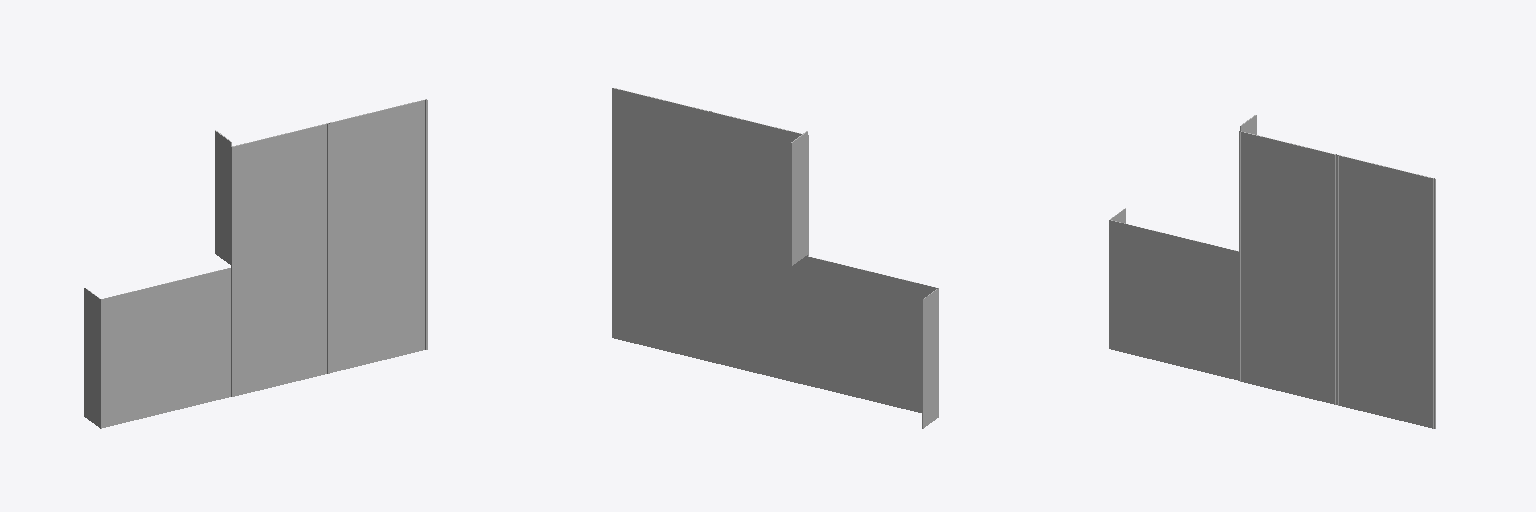
The model's file is Registerverkleidung.obj.
3 renders of one model, left to right at view 1: azimuth 30°, elevation 25°; view 2: azimuth 150°, elevation 25°; view 3: azimuth 330°, elevation 25°, orthographic.
Parts seen in each view (by area): view 1: Mesh12 Component_1972 G_7_V3_Registerverkleidungen_dwg1 Model, Mesh4 Component_1948 G_7_V3_Registerverkleidungen_dwg1 Model, Mesh21 Component_2002 G_7_V3_Registerverkleidungen_dwg1 Model, Mesh19 Component_2001 G_7_V3_Registerverkleidungen_dwg1 Model, Mesh17 Component_2000 G_7_V3_Registerverkleidungen_dwg1 Model, Mesh6 Component_1949 G_7_V3_Registerverkleidungen_dwg1 Model, Mesh14 Component_1973 G_7_V3_Registerverkleidungen_dwg1 Model; view 2: Mesh4 Component_1948 G_7_V3_Registerverkleidungen_dwg1 Model, Mesh12 Component_1972 G_7_V3_Registerverkleidungen_dwg1 Model, Mesh21 Component_2002 G_7_V3_Registerverkleidungen_dwg1 Model, Mesh19 Component_2001 G_7_V3_Registerverkleidungen_dwg1 Model, Mesh17 Component_2000 G_7_V3_Registerverkleidungen_dwg1 Model; view 3: Mesh4 Component_1948 G_7_V3_Registerverkleidungen_dwg1 Model, Mesh12 Component_1972 G_7_V3_Registerverkleidungen_dwg1 Model, Mesh21 Component_2002 G_7_V3_Registerverkleidungen_dwg1 Model, Mesh6 Component_1949 G_7_V3_Registerverkleidungen_dwg1 Model.
Part boxes in pixels (bbox=[...]): Mesh12 Component_1972 G_7_V3_Registerverkleidungen_dwg1 Model: bbox=[232, 123, 327, 396]; Mesh4 Component_1948 G_7_V3_Registerverkleidungen_dwg1 Model: bbox=[331, 99, 425, 372]; Mesh21 Component_2002 G_7_V3_Registerverkleidungen_dwg1 Model: bbox=[100, 268, 230, 428]; Mesh19 Component_2001 G_7_V3_Registerverkleidungen_dwg1 Model: bbox=[84, 288, 99, 427]; Mesh17 Component_2000 G_7_V3_Registerverkleidungen_dwg1 Model: bbox=[215, 130, 231, 264]; Mesh6 Component_1949 G_7_V3_Registerverkleidungen_dwg1 Model: bbox=[425, 99, 427, 349]; Mesh14 Component_1973 G_7_V3_Registerverkleidungen_dwg1 Model: bbox=[327, 123, 329, 373]; Mesh4 Component_1948 G_7_V3_Registerverkleidungen_dwg1 Model: bbox=[614, 88, 708, 361]; Mesh12 Component_1972 G_7_V3_Registerverkleidungen_dwg1 Model: bbox=[712, 112, 805, 384]; Mesh21 Component_2002 G_7_V3_Registerverkleidungen_dwg1 Model: bbox=[808, 256, 937, 412]; Mesh19 Component_2001 G_7_V3_Registerverkleidungen_dwg1 Model: bbox=[922, 288, 938, 428]; Mesh17 Component_2000 G_7_V3_Registerverkleidungen_dwg1 Model: bbox=[791, 131, 807, 265]; Mesh4 Component_1948 G_7_V3_Registerverkleidungen_dwg1 Model: bbox=[1339, 155, 1433, 428]; Mesh12 Component_1972 G_7_V3_Registerverkleidungen_dwg1 Model: bbox=[1241, 131, 1335, 404]; Mesh21 Component_2002 G_7_V3_Registerverkleidungen_dwg1 Model: bbox=[1109, 220, 1238, 380]; Mesh6 Component_1949 G_7_V3_Registerverkleidungen_dwg1 Model: bbox=[1433, 178, 1435, 428].
Bounding box in the file's own units: 314 × 235 × 28.34.